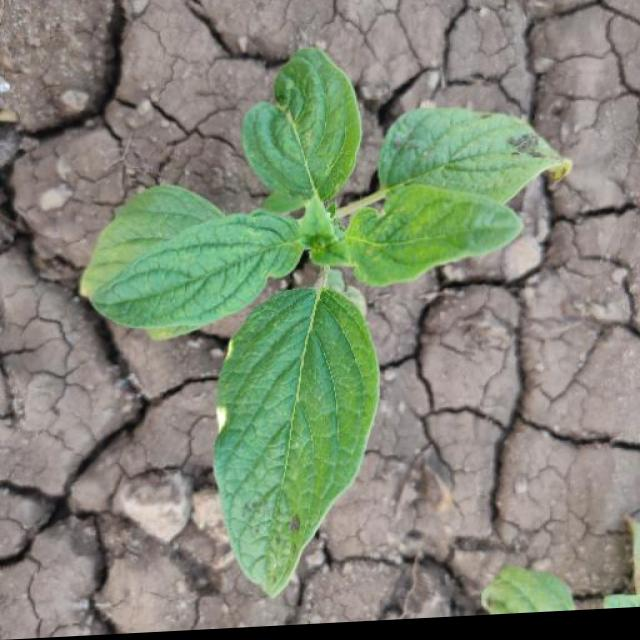crop: (87, 56, 578, 605)
